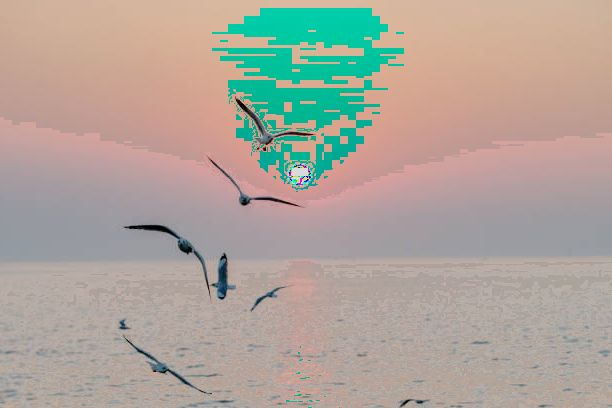Bird: (119, 218, 215, 302), (205, 150, 310, 215), (121, 333, 215, 396), (231, 92, 314, 151), (247, 283, 289, 314), (210, 252, 236, 300)
